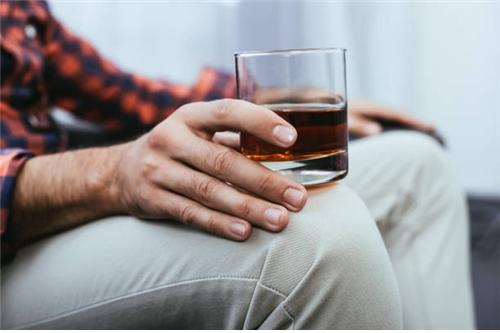alcohol: (232, 43, 349, 194)
